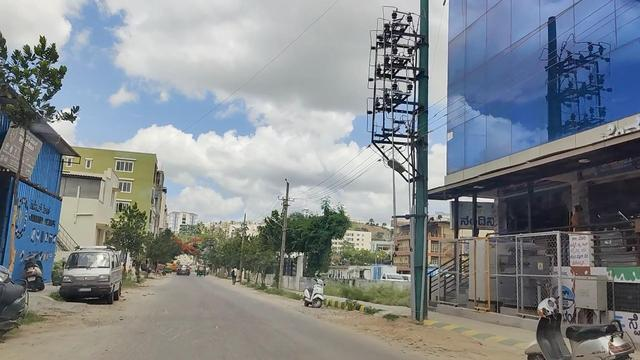LMV: (63, 248, 113, 297)
